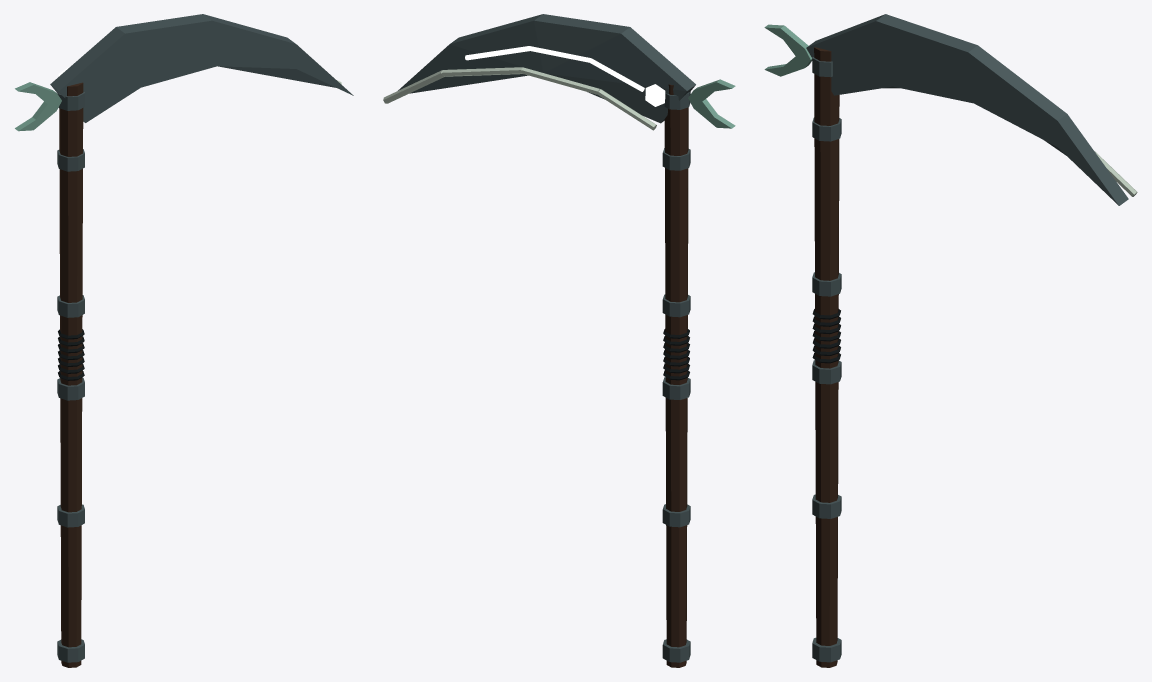
File: reaper_weapon.glb
The picture shows the model from 3 angles, left to right: view 1: azimuth 30°, elevation 25°; view 2: azimuth 150°, elevation 25°; view 3: azimuth 330°, elevation 25°; orthographic projection. The views are drawn at different scales.
Parts seen in each view (by area): view 1: Reaper_Weapon_Static; view 2: Reaper_Weapon_Static; view 3: Reaper_Weapon_Static.
Part boxes in pixels (bbox=[...]): Reaper_Weapon_Static: bbox=[15, 14, 353, 667]; Reaper_Weapon_Static: bbox=[383, 14, 735, 667]; Reaper_Weapon_Static: bbox=[764, 14, 1137, 667].
Bounding box in the file's own units: 1.28 × 2.25 × 0.149.
